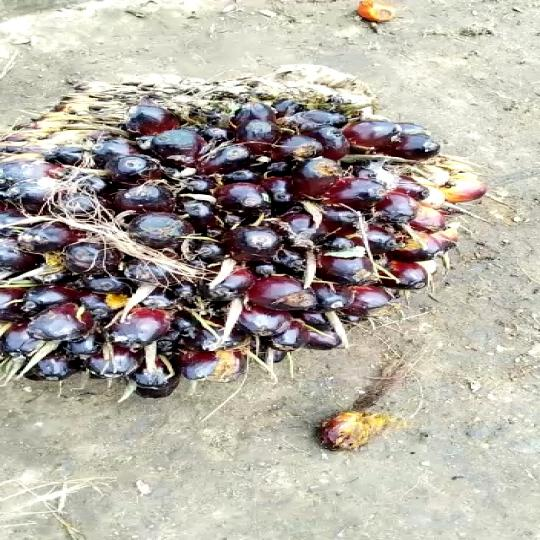mentah: (7, 65, 487, 401)
